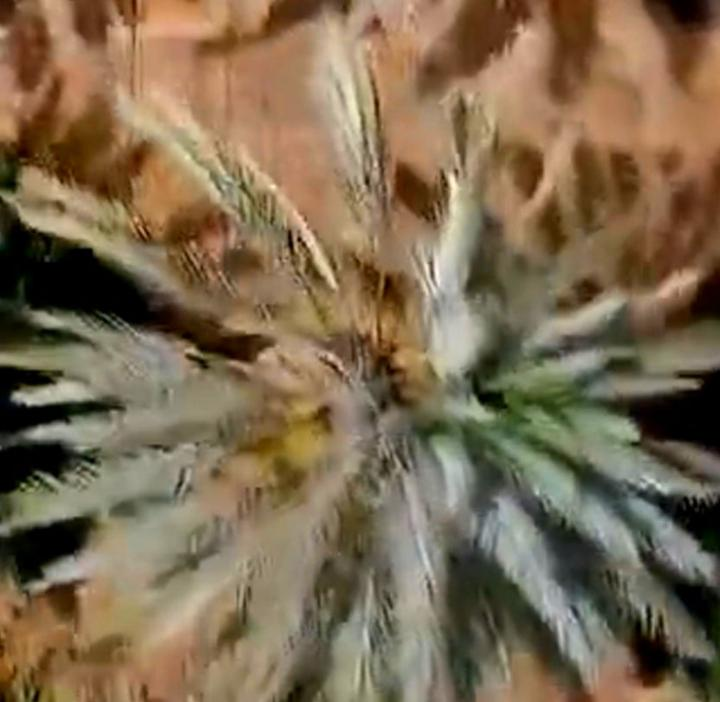Date-Palm-Crown: (176, 309, 624, 648)
